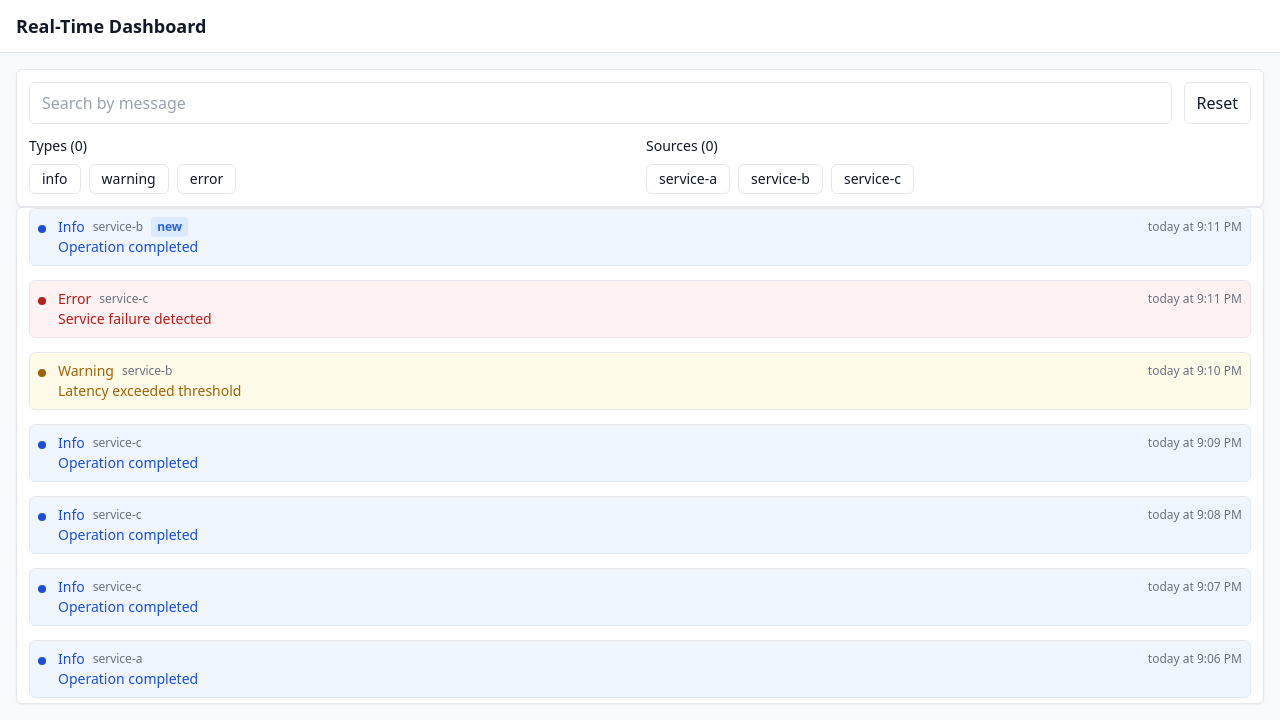
Test case: Event Details Panel › should display event metadata
The image size is (1280, 720).
Step 1. Click the 1st button with test id "event-row" → [118, 227], box left=29, top=208, right=1251, bottom=266
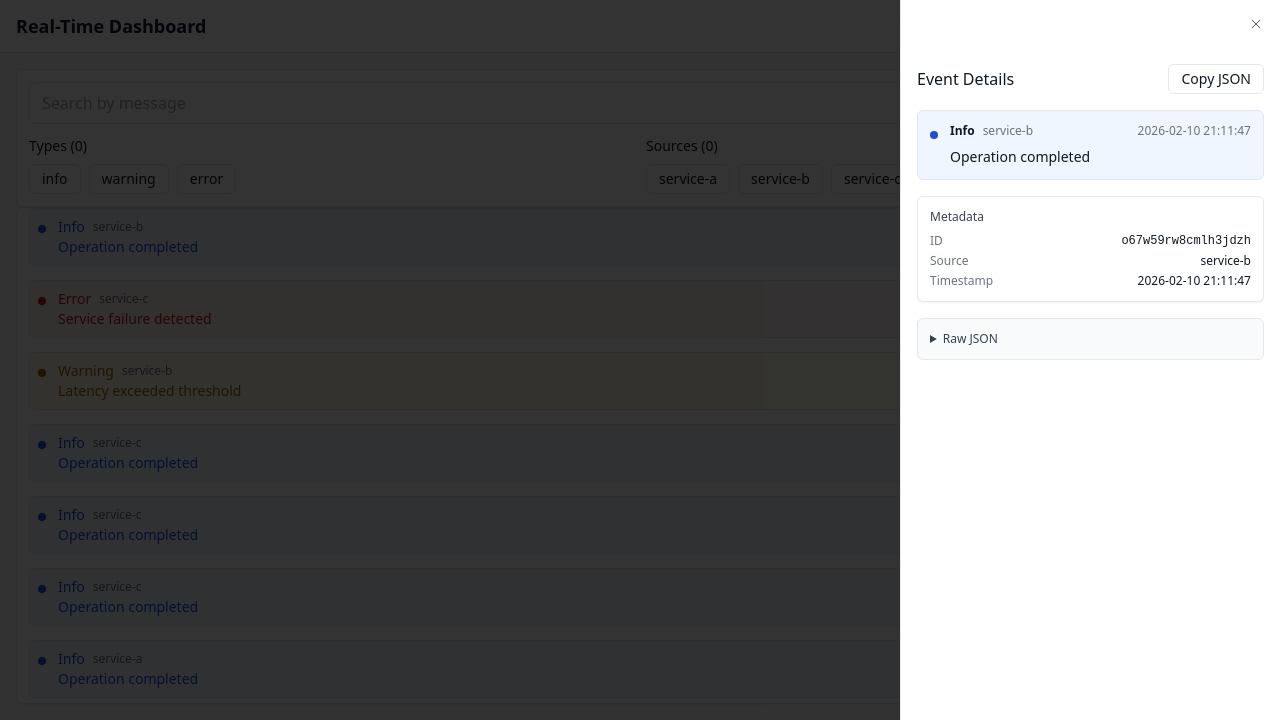
Now the dialog with test id "event-details-panel" is shown, box left=900, top=0, right=1279, bottom=719
Now the element with test id "event-details" is shown, box left=917, top=64, right=1264, bottom=360
Now the text "Metadata" is shown, box left=930, top=208, right=984, bottom=225
